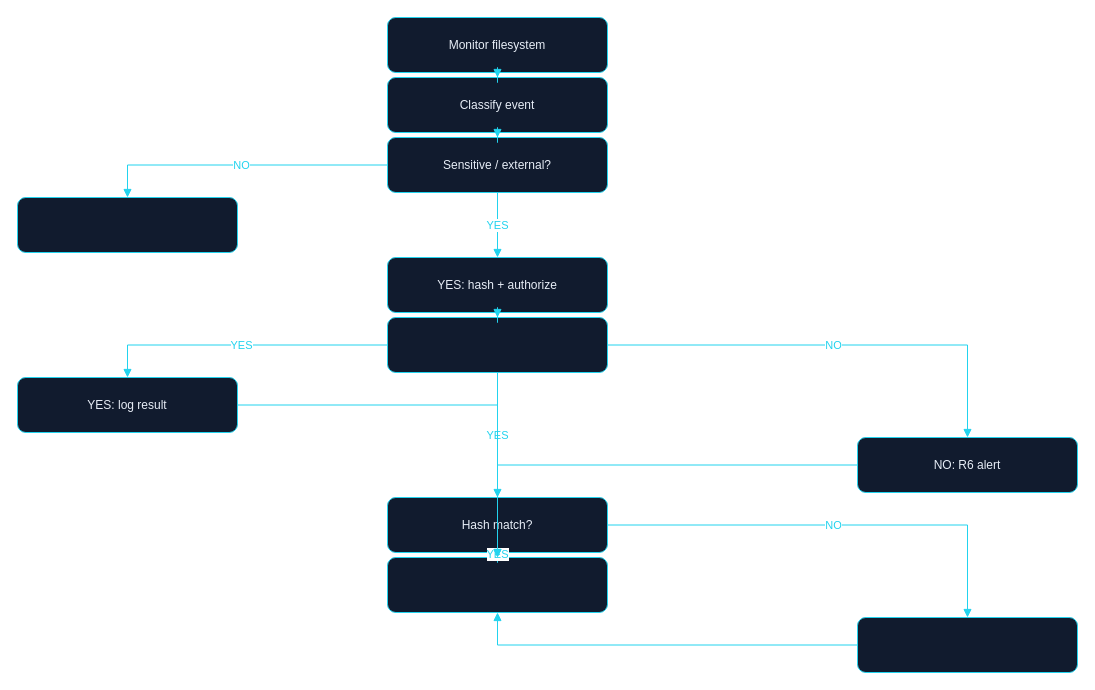
Some shapes in this 1095 by 690 pixel diagram are drawn without their labels. The centre of each missing label's shape, as x and y in pixels:
Authorized?: point 497,344
NO: log INFO: point 127,224
NO: R3 alert: point 967,644
YES: final report: point 497,584
